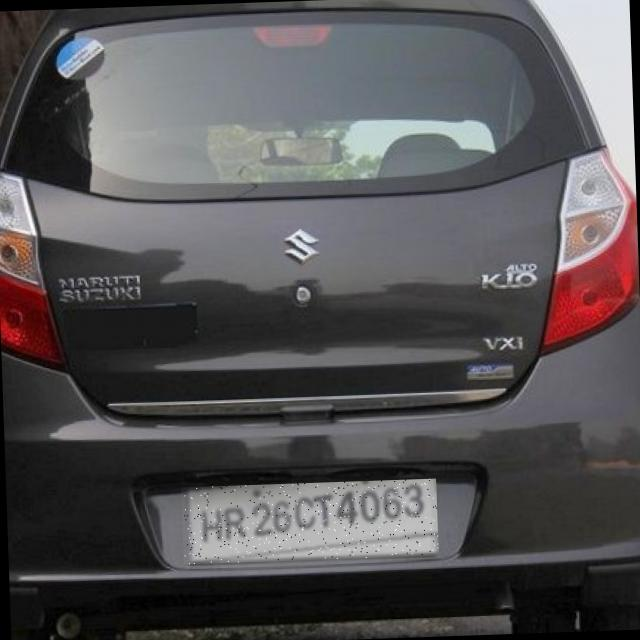Plate: (182, 479, 440, 565)
